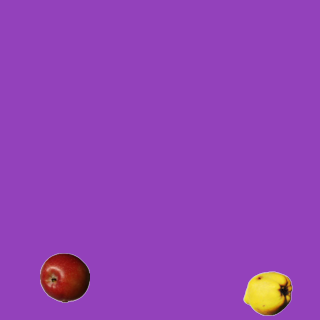Apple Braeburn: (39, 252, 89, 302)
Quince: (242, 268, 292, 318)
